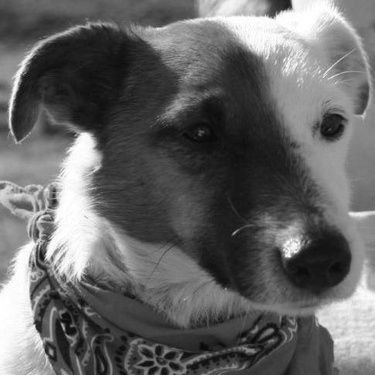dog: (2, 3, 371, 373)
